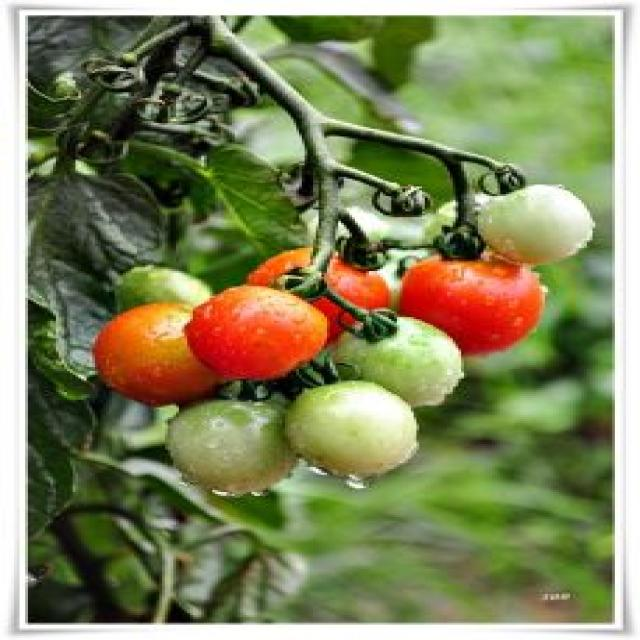level 2: (300, 315, 472, 409), (472, 177, 614, 270), (93, 255, 235, 338), (404, 192, 514, 252)
level 3: (142, 380, 318, 513), (271, 385, 436, 487)
level 5: (80, 306, 235, 401), (190, 285, 326, 388)
level 6: (390, 252, 566, 356), (248, 237, 401, 341)
